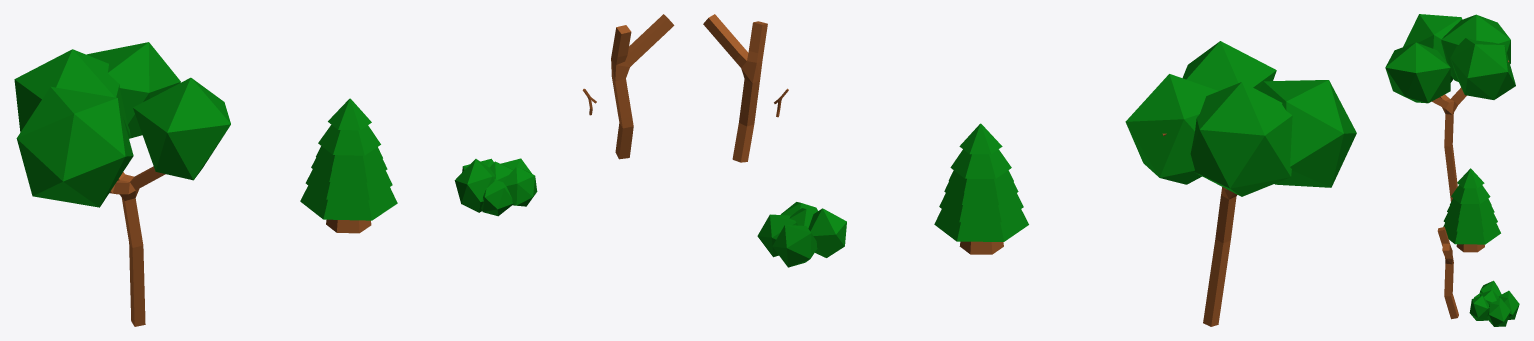
The model's file is Tree.fbx.
The picture shows the model from 3 angles, left to right: view 1: azimuth 30°, elevation 25°; view 2: azimuth 150°, elevation 25°; view 3: azimuth 270°, elevation 25°; orthographic projection. The views are drawn at different scales.
Parts seen in each view (by area): view 1: Tree1 leafes, Tree2, Bush, Tree1 wood.001, Tree1 wood; view 2: Tree1 leafes, Tree2, Bush, Tree1 wood.001, Tree1 wood; view 3: Tree1 leafes, Tree2, Bush, Tree1 wood, Tree1 wood.001.
Boxes of the visible parts, left/top/right/bottom form: Tree1 leafes: left=14, top=42, right=230, bottom=207; Tree2: left=300, top=98, right=397, bottom=233; Bush: left=454, top=158, right=537, bottom=216; Tree1 wood.001: left=611, top=14, right=674, bottom=159; Tree1 wood: left=109, top=166, right=165, bottom=326; Tree1 leafes: left=1125, top=41, right=1356, bottom=196; Tree2: left=934, top=123, right=1028, bottom=254; Bush: left=757, top=202, right=846, bottom=267; Tree1 wood.001: left=703, top=14, right=767, bottom=162; Tree1 wood: left=1162, top=133, right=1237, bottom=326; Tree1 leafes: left=1385, top=14, right=1515, bottom=103; Tree2: left=1443, top=168, right=1500, bottom=252; Bush: left=1469, top=280, right=1519, bottom=326; Tree1 wood: left=1432, top=60, right=1508, bottom=201; Tree1 wood.001: left=1437, top=226, right=1458, bottom=319.
Bounding box in the file's own units: 3325 × 1332 × 943.
